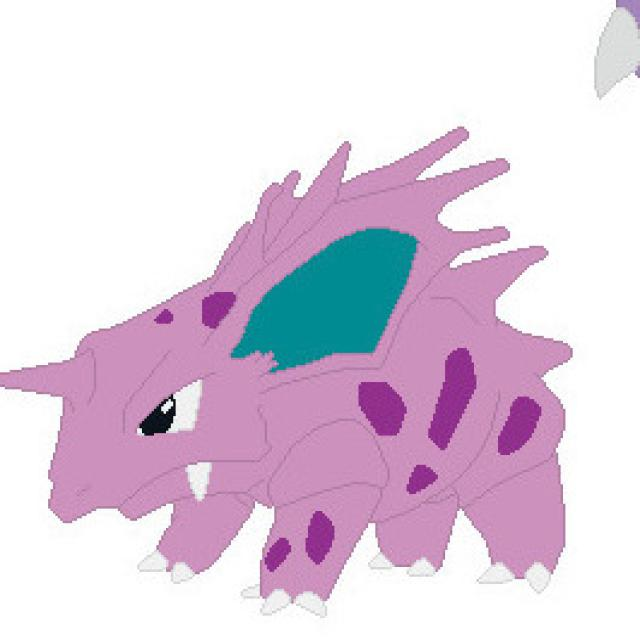Nidorino: (79, 146, 599, 609)
